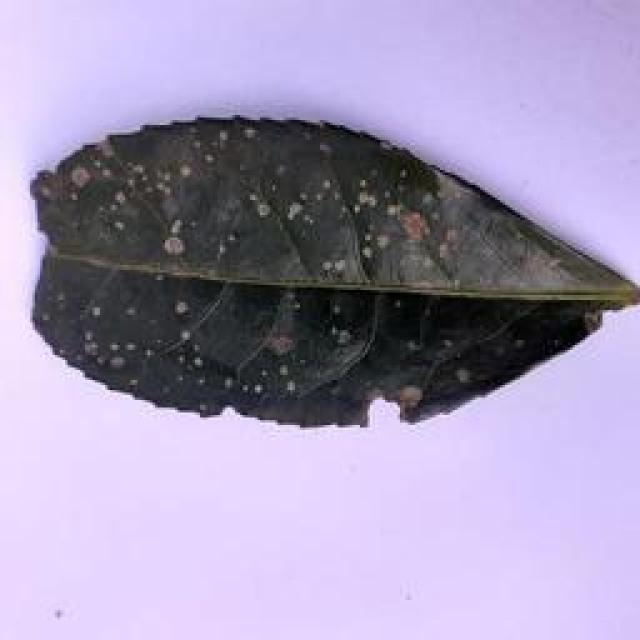Algal Leaf Spot: (23, 110, 640, 440)
